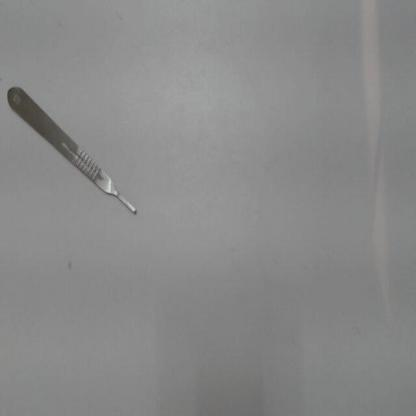No.3 BP Handle: (3, 73, 150, 229)
